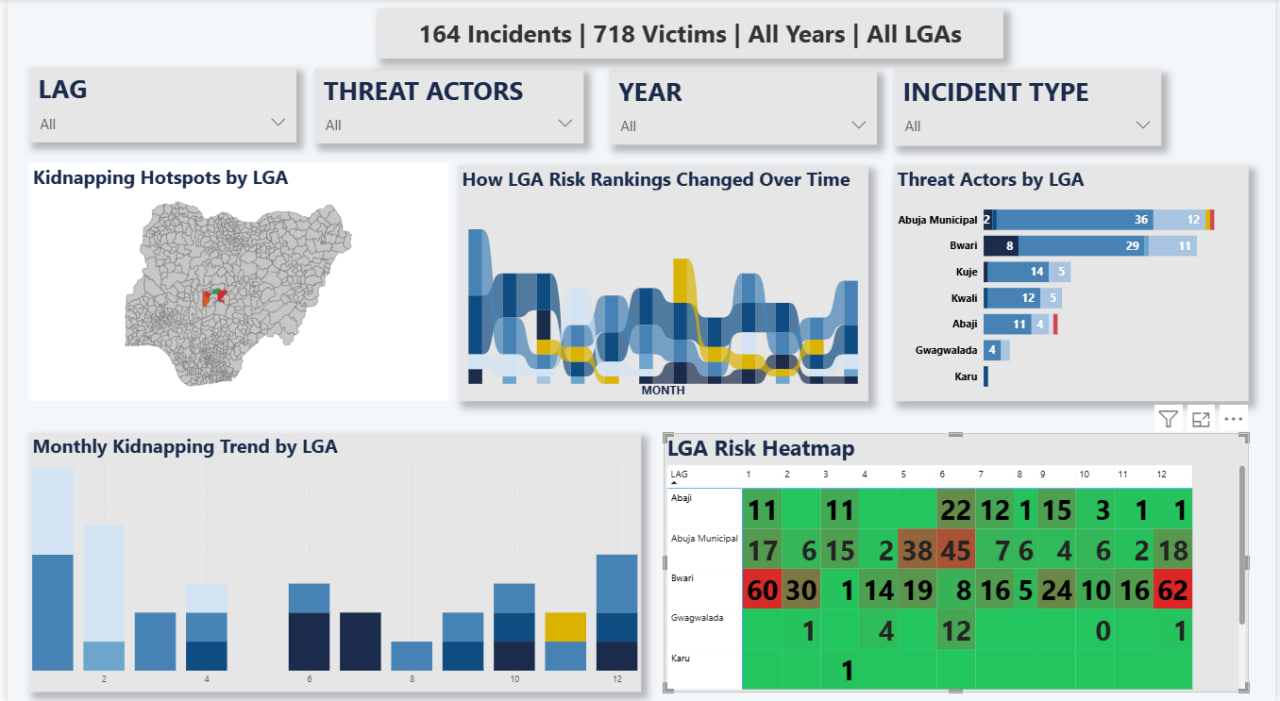

The page's visual inventory and layout, read from the dashboard file:
{"tool":"powerbi","page":{"name":"Geographic Risk Assessment","canvas":[1800,1000],"ordinal":1},"visuals":[{"type":"pivotTable","title":"LGA Risk Heatmap","fields":{"Rows":["dim-LAG.LAG"],"Columns":["dim-date.MONTH"],"Values":["kpi).People Kidnapped"]},"box":[931.6,616.6,831.1,368.6],"z":0},{"type":"ribbonChart","title":"How LGA Risk Rankings Changed Over Time","fields":{"Category":["dim-date.MONTH"],"Series":["dim-LAG.LAG"],"Y":["kpi).Total Incidents"]},"box":[639.7,235.6,582.3,335.2],"z":1000},{"type":"columnChart","title":"Monthly Kidnapping Trend by LGA","fields":{"Category":["dim-date.MONTH"],"Series":["dim-LAG.LAG"],"Y":["kpi).People Killed"]},"box":[30.6,616.7,869.5,367.7],"z":2000},{"type":"barChart","title":"Threat Actors by LGA","fields":{"Category":["dim-LAG.LAG"],"Series":["dim-THREAT ACTORS.THREAT ACTORS"],"Y":["kpi).Total Incidents"]},"box":[1258.4,235.6,503.7,335.2],"z":3000},{"type":"slicer","title":"LAG","fields":{"Values":["dim-SECURITY INCIDENT SUB-TYPE.SECURITY INCIDENT SUB-TYPE"]},"box":[1258.2,100.3,380.1,108.1],"z":4000},{"type":"slicer","title":"LAG","fields":{"Values":["dim-date.YEAR"]},"box":[854.8,100.3,380.1,106.1],"z":5000},{"type":"slicer","title":"LAG","fields":{"Values":["dim-THREAT ACTORS.THREAT ACTORS"]},"box":[436.1,98.4,382.1,106.1],"z":6000},{"type":"slicer","title":"LAG","fields":{"Values":["dim-LAG.LAG"]},"box":[30.9,96.5,380.1,106.1],"z":7000},{"type":"card","fields":{"Values":["kpi).Dashboard Summary"]},"box":[524.9,13.5,889.6,71.4],"z":8000},{"type":"shapeMap","title":"Kidnapping Hotspots by LGA","fields":{"Category":["dim-LAG.LAG"],"Value":["kpi).People Kidnapped"]},"box":[30.9,233.5,596.3,337.7],"z":8001}]}

Visuals, with their boxes in screenshot pixels (x1, y1, x2, y2), scaled from the page's 1800x1000 canvas onto the 1280x701 screenshot:
"LGA Risk Heatmap" pivotTable: box=[662, 432, 1253, 691]
"How LGA Risk Rankings Changed Over Time" ribbonChart: box=[455, 165, 869, 400]
"Monthly Kidnapping Trend by LGA" columnChart: box=[22, 432, 640, 690]
"Threat Actors by LGA" barChart: box=[895, 165, 1253, 400]
"LAG" slicer: box=[895, 70, 1165, 146]
"LAG" slicer: box=[608, 70, 878, 145]
"LAG" slicer: box=[310, 69, 582, 143]
"LAG" slicer: box=[22, 68, 292, 142]
card - kpi).Dashboard Summary: box=[373, 9, 1006, 60]
"Kidnapping Hotspots by LGA" shapeMap: box=[22, 164, 446, 400]
